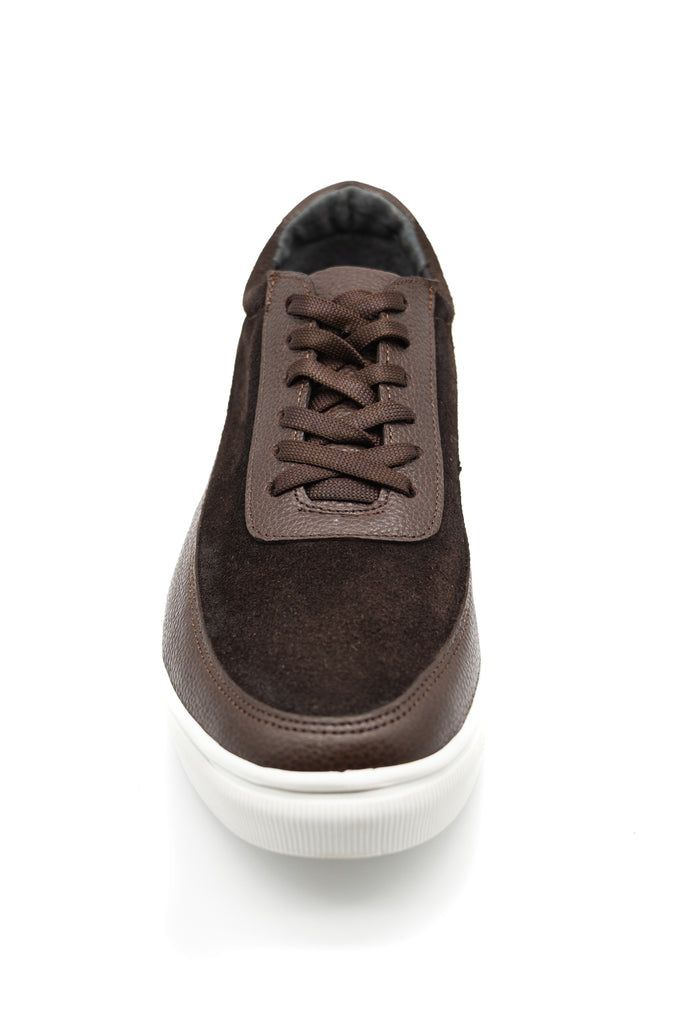gamuza: (197, 270, 472, 717)
